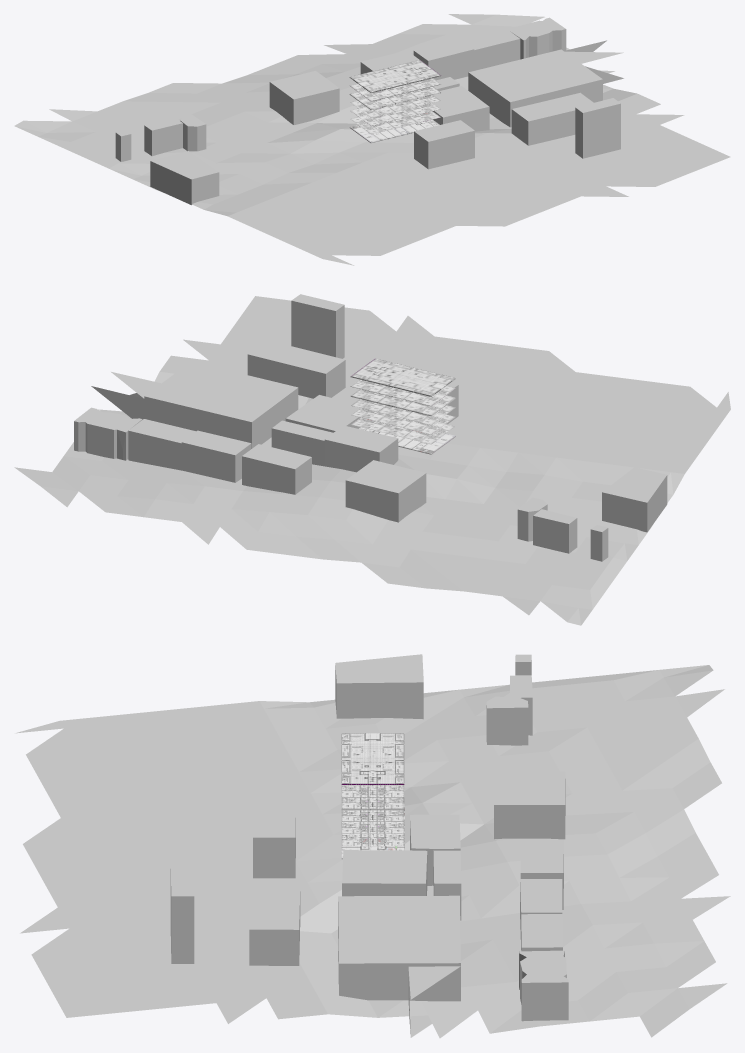
Rendered from bplans.compressed.glb.
The picture shows the model from 3 angles, top to bottom: view 1: azimuth 30°, elevation 25°; view 2: azimuth 150°, elevation 25°; view 3: azimuth 270°, elevation 25°; orthographic projection. The views are drawn at different scales.
Visible parts, largest first — view 1: ENV, flat-00.007, flat-03.002, flat-04.004, GUARD ROOM.000, flat-04.001; view 2: ENV, flat-00.007, flat-03.002, flat-04.004, flat-04.001, GUARD ROOM.000; view 3: ENV, flat-00.007, flat-03.002, flat-04.004, flat-04.001.
Boxes of the visible parts, x1,y1,x2,y2 form: ENV: [14, 14, 730, 265]; flat-00.007: [350, 60, 440, 92]; flat-03.002: [350, 78, 440, 125]; flat-04.004: [349, 86, 441, 117]; GUARD ROOM.000: [349, 119, 439, 143]; flat-04.001: [350, 111, 440, 134]; ENV: [14, 294, 730, 625]; flat-00.007: [351, 358, 455, 396]; flat-03.002: [350, 379, 455, 434]; flat-04.004: [350, 389, 455, 425]; flat-04.001: [351, 417, 455, 444]; GUARD ROOM.000: [358, 427, 455, 454]; ENV: [15, 654, 730, 1038]; flat-00.007: [341, 733, 404, 784]; flat-03.002: [341, 785, 404, 833]; flat-04.004: [341, 797, 404, 821]; flat-04.001: [341, 834, 404, 846].
Size of the model in its own units: 80.78 by 10.65 by 66.07.
Materials: 7 (6 with a texture image).
